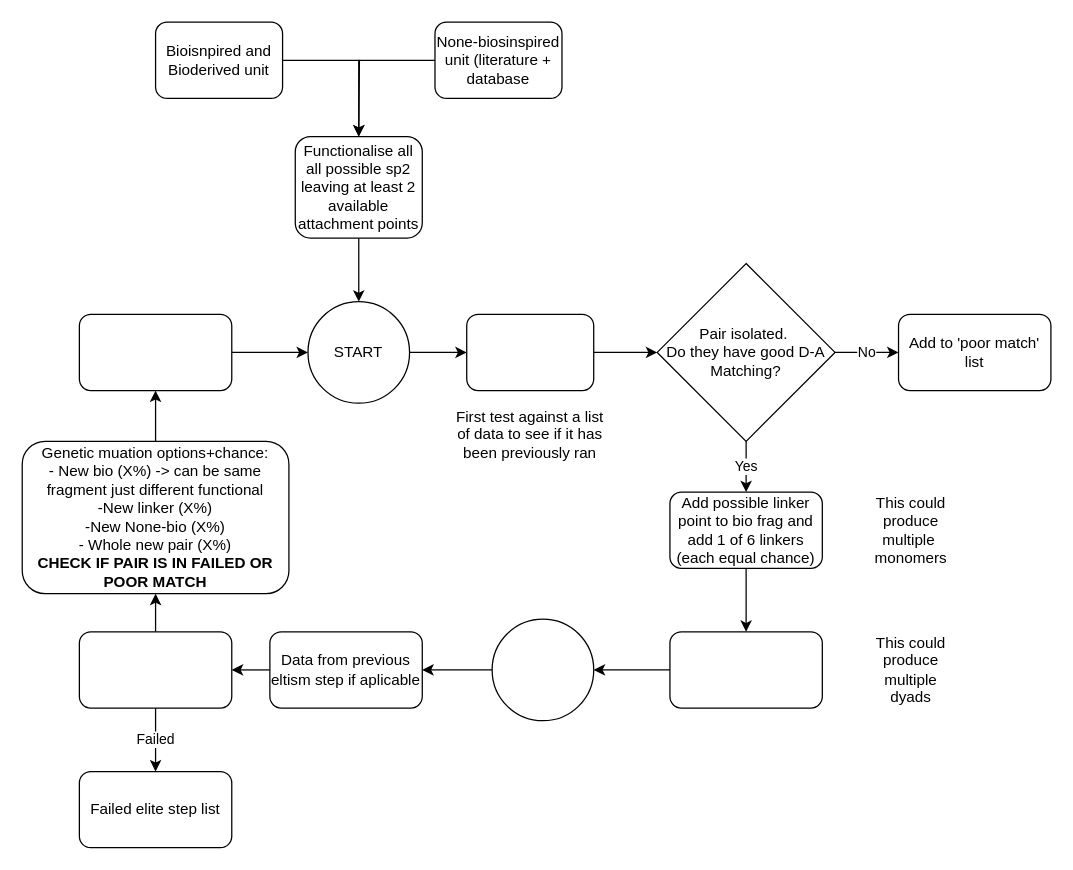
Some shapes in this 1073 by 870 pixel diagram are drawn without their labels. Each missing label, with the box of its shape:
Add possible linker point to non-bio frag and pair together: (669, 631, 822, 708)
Elitism strep (top 25% kept): (78, 631, 232, 708)
Geometry and HOMO, LUMO of isolated fragments: (465, 313, 594, 391)
Old 25% wait and return after the calc the new '75%' go through the process): (78, 313, 232, 391)
Run calculation (psi4 or Gaussian): (491, 618, 594, 721)
